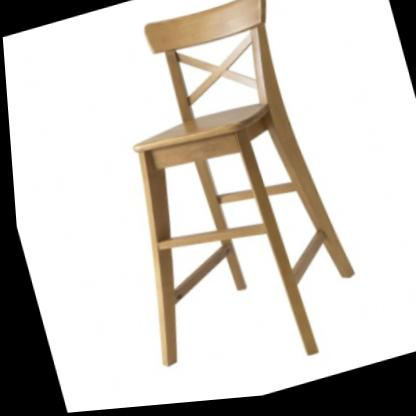Chair: (68, 0, 370, 405)
